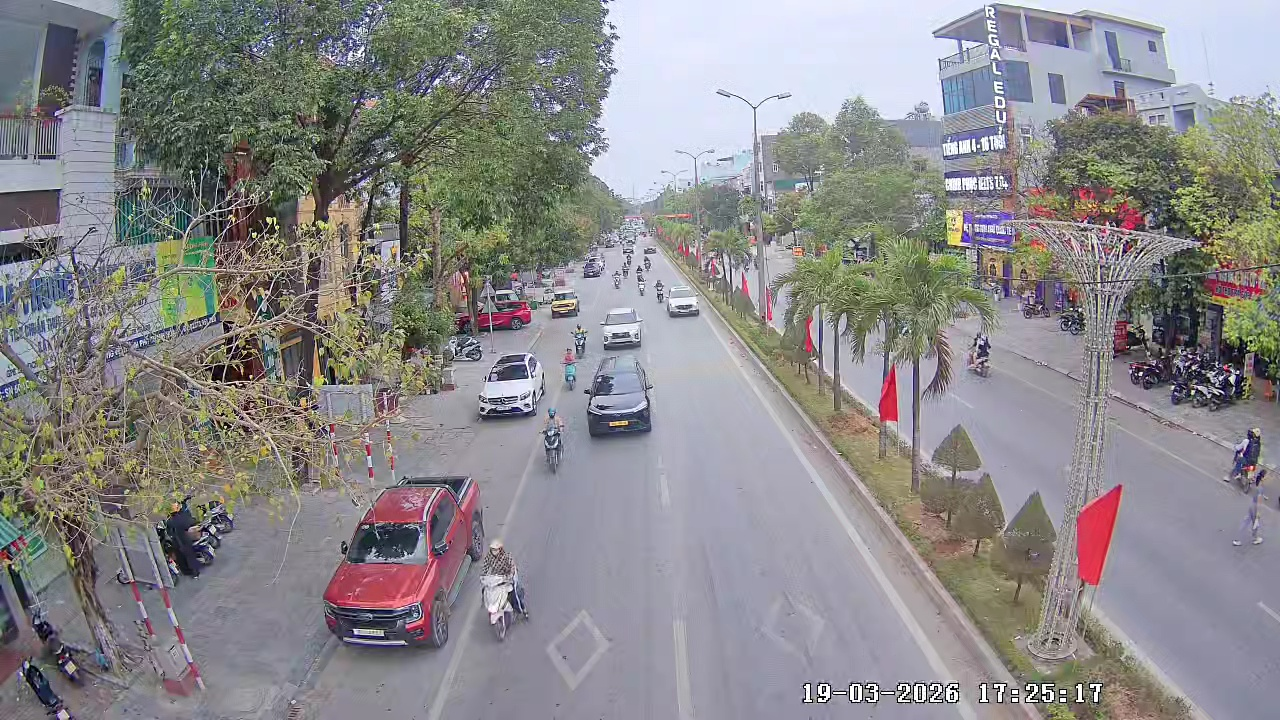car: (323, 472, 482, 649), (583, 358, 657, 437), (476, 353, 546, 419), (600, 305, 644, 350), (664, 285, 700, 319), (549, 286, 580, 318), (498, 302, 531, 331)
motorbike: (478, 537, 531, 643), (1224, 427, 1269, 495), (539, 407, 568, 474), (971, 336, 992, 378), (560, 348, 578, 391), (572, 322, 589, 357), (652, 278, 667, 305)
